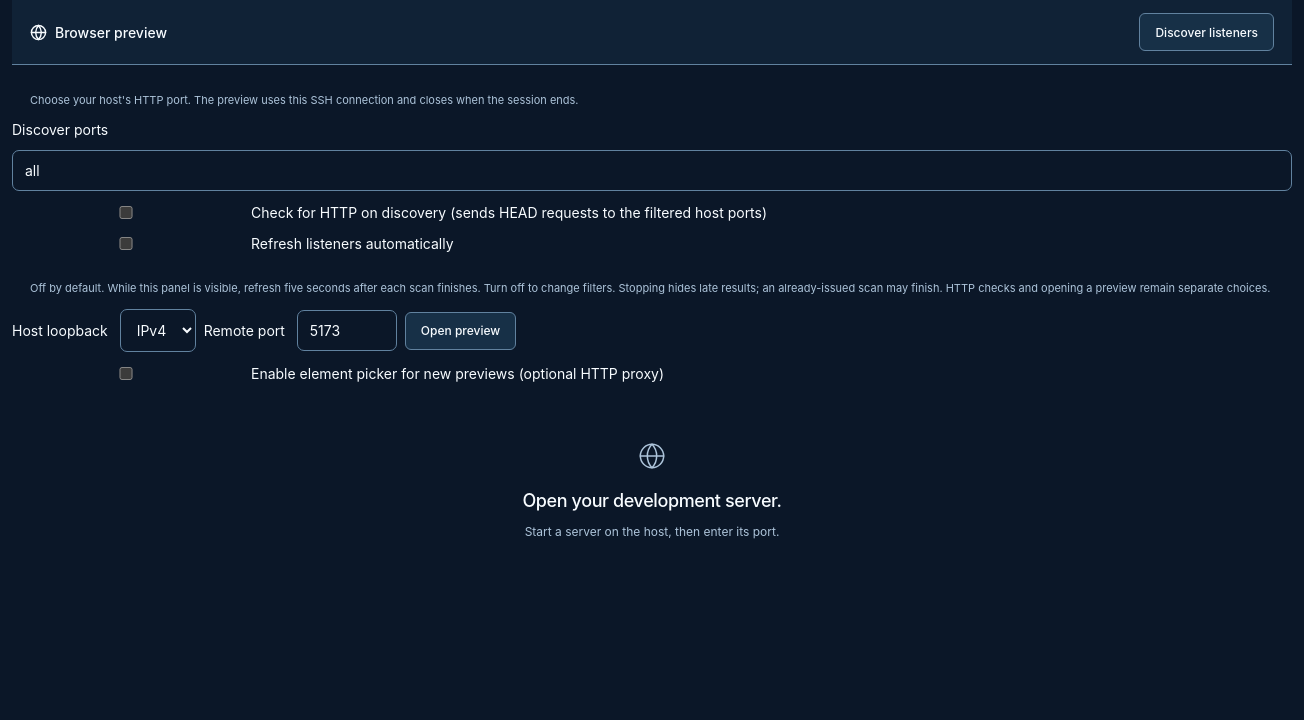
it: rejects invalid opt-in filters without enabling periodic work
Replace the text in the field labelled "Discover ports" with "22;command": (652, 171) x1=12 y1=150 x2=1292 y2=191
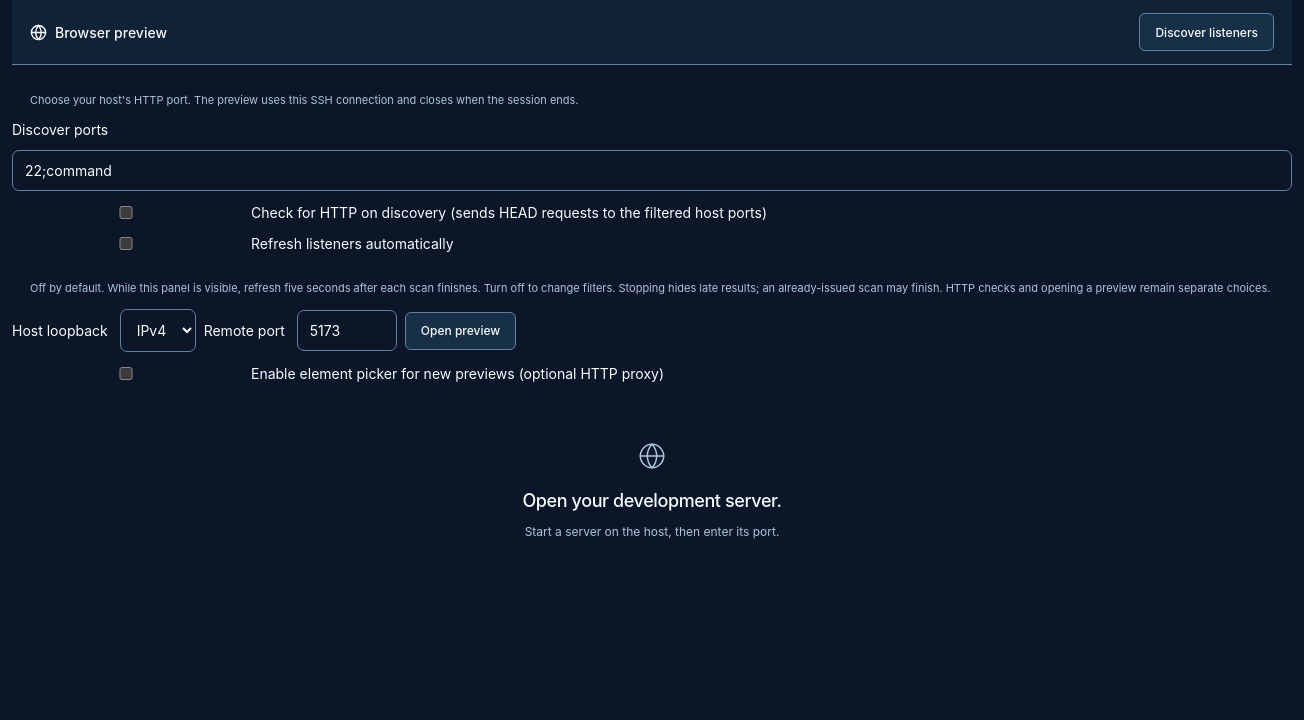
Click the checkbox labelled "Refresh listeners automatically": (126, 244) x1=16 y1=237 x2=236 y2=250
Wait 10000 ms
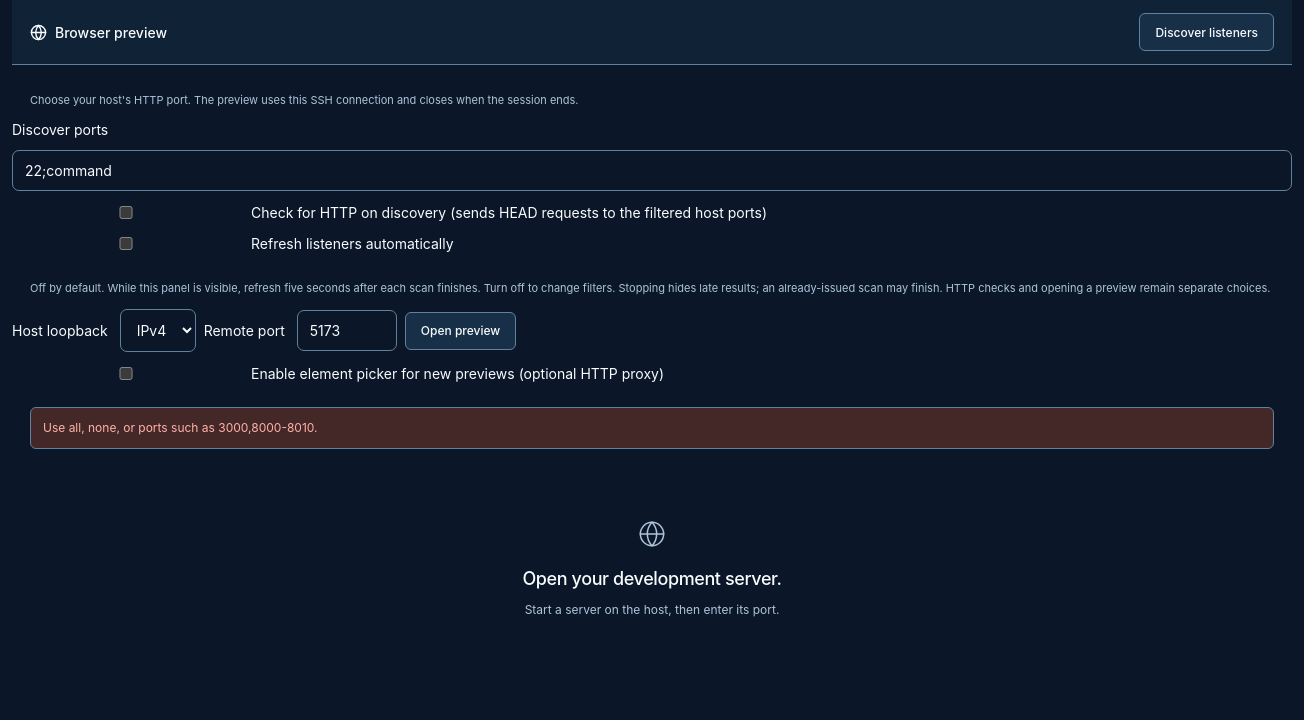
Check: the message "Use all, none, or ports such as 3000,8000-8010." is shown, box x1=30 y1=407 x2=1274 y2=449
